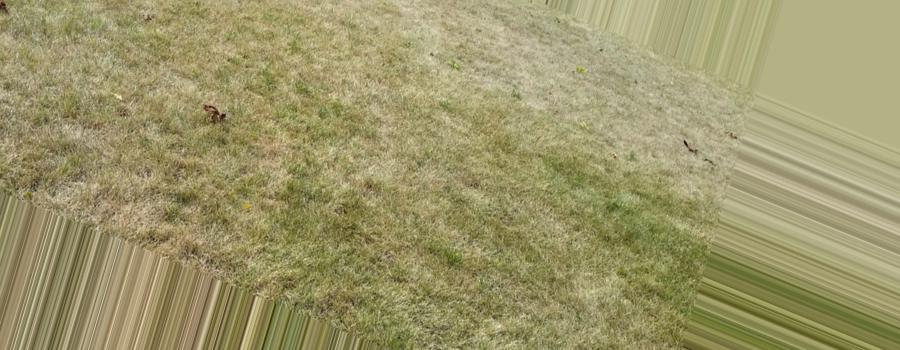patch: (505, 27, 705, 127), (97, 176, 172, 229), (385, 1, 426, 37), (378, 108, 399, 166), (436, 17, 473, 49)
